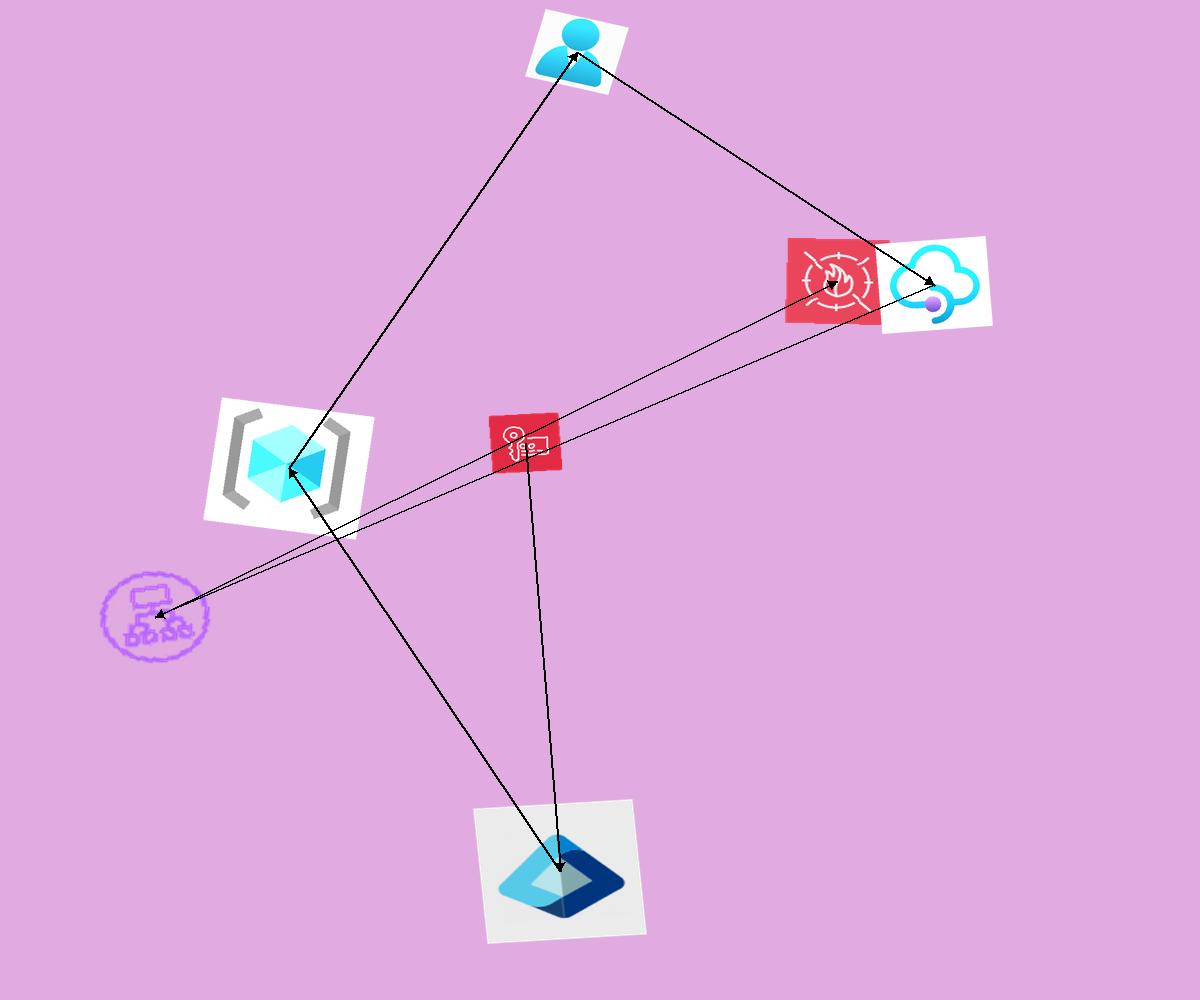AWS-Key-Management-Service: (488, 412, 563, 474)
AWS-Res_Elastic-Load-Balancing_Application-Load-Balancer: (83, 557, 227, 677)
AWS-WAF: (784, 237, 891, 326)
Azure_api_gateway: (875, 236, 993, 334)
Azure_microsoft_entra: (473, 799, 647, 944)
Azure_resource_group: (203, 397, 375, 540)
Azure_users: (525, 9, 629, 95)
